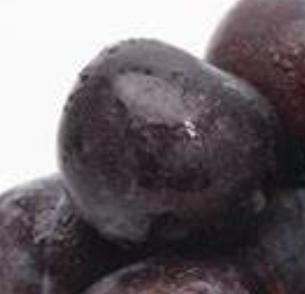plum_A: (55, 38, 287, 258)
